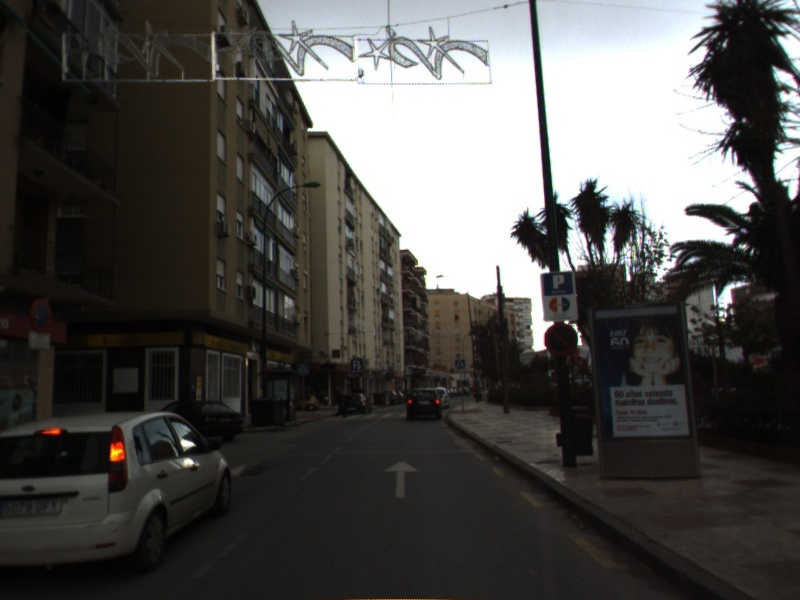STRAIGHT: (381, 458, 421, 499)
